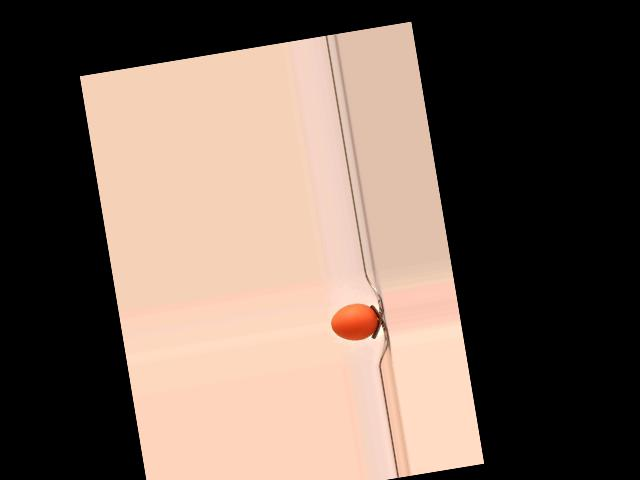egg: (329, 300, 380, 343)
